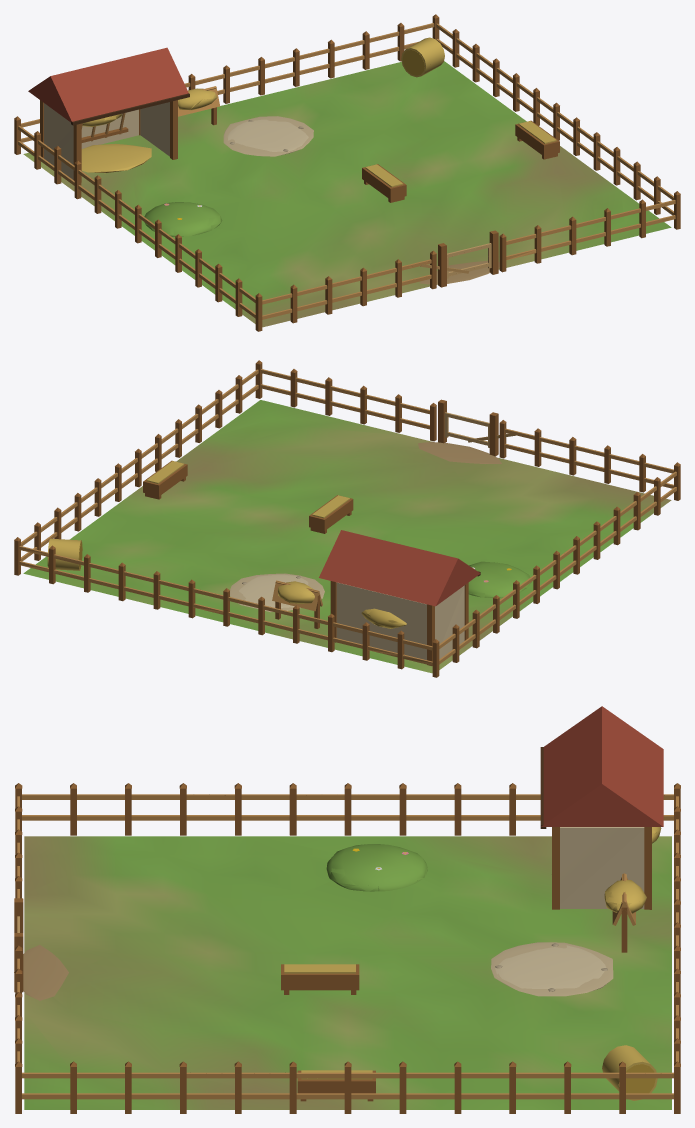
File: paddock-g2.glb
3 views of the same model, one above another, from view 1: azimuth 30°, elevation 25°; view 2: azimuth 150°, elevation 25°; view 3: azimuth 270°, elevation 25° (orthographic). The views are drawn at different scales.
Visible parts, largest first — view 1: home-paddock-g2-far, home-paddock-g2; view 2: home-paddock-g2-far, home-paddock-g2; view 3: home-paddock-g2-far, home-paddock-g2.
Boxes of the visible parts, left/top/right/bottom form: home-paddock-g2-far: left=23, top=25, right=680, bottom=331; home-paddock-g2: left=14, top=14, right=680, bottom=331; home-paddock-g2-far: left=14, top=360, right=671, bottom=677; home-paddock-g2: left=14, top=360, right=680, bottom=677; home-paddock-g2-far: left=15, top=706, right=680, bottom=1113; home-paddock-g2: left=14, top=706, right=680, bottom=1113.
Bounding box in the file's own units: 11.93 × 2.63 × 11.95.
